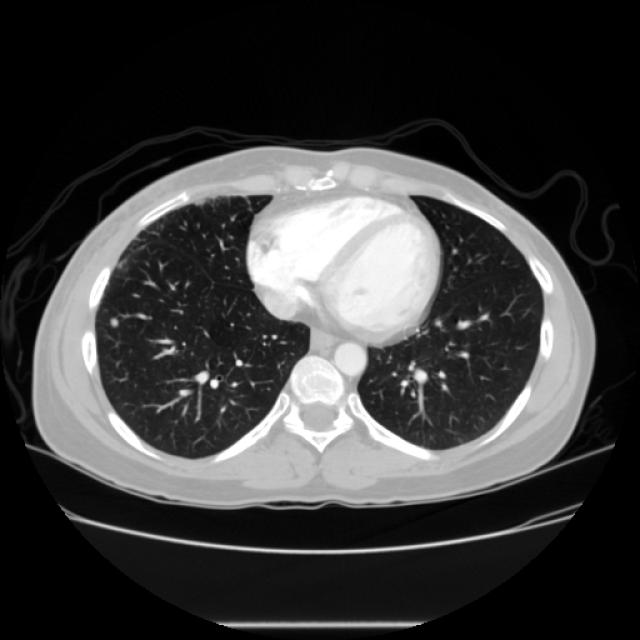nodule: (100, 308, 125, 334)
